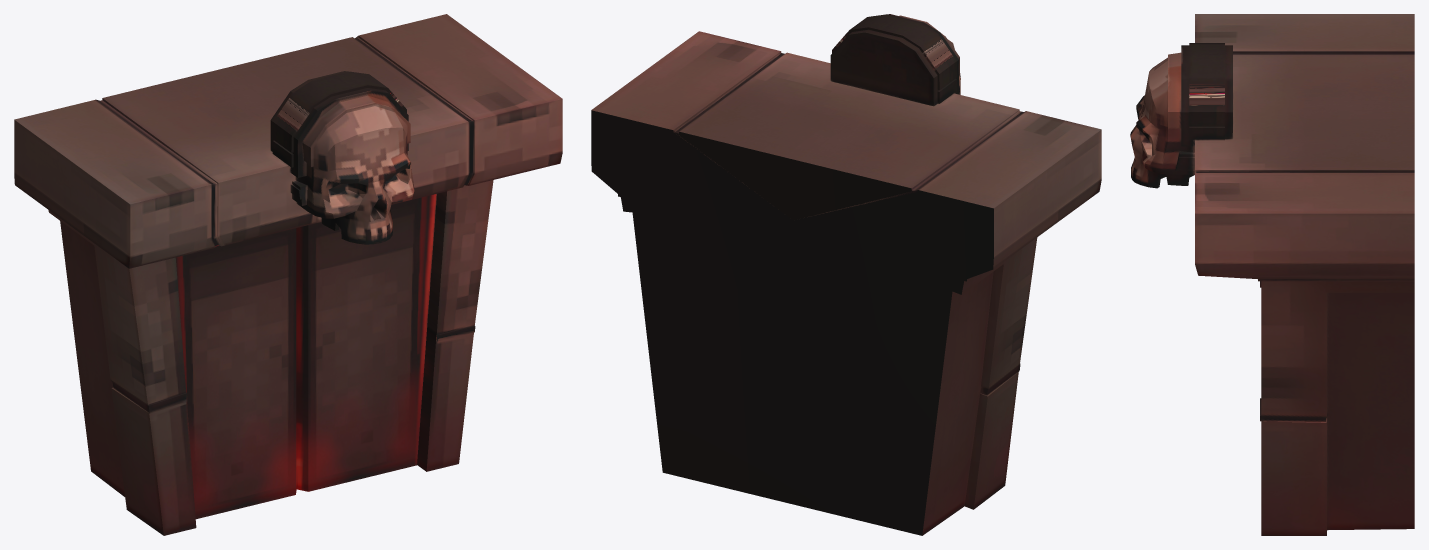
The model's file is Boss_Door.fbx.
The picture shows the model from 3 angles, left to right: view 1: azimuth 30°, elevation 25°; view 2: azimuth 150°, elevation 25°; view 3: azimuth 270°, elevation 25°; orthographic projection. The views are drawn at different scales.
Visible parts, largest first — view 1: Boss_Base, Boss_Door_2, Boss_Door_1; view 2: Boss_Base; view 3: Boss_Base.
Boxes of the visible parts, x1,y1,x2,y2 form: Boss_Base: (14, 14, 562, 535); Boss_Door_2: (296, 194, 436, 491); Boss_Door_1: (175, 228, 296, 519); Boss_Base: (591, 14, 1101, 535); Boss_Base: (1130, 14, 1414, 535).
Size of the model in its own units: 289 by 280 by 174.
